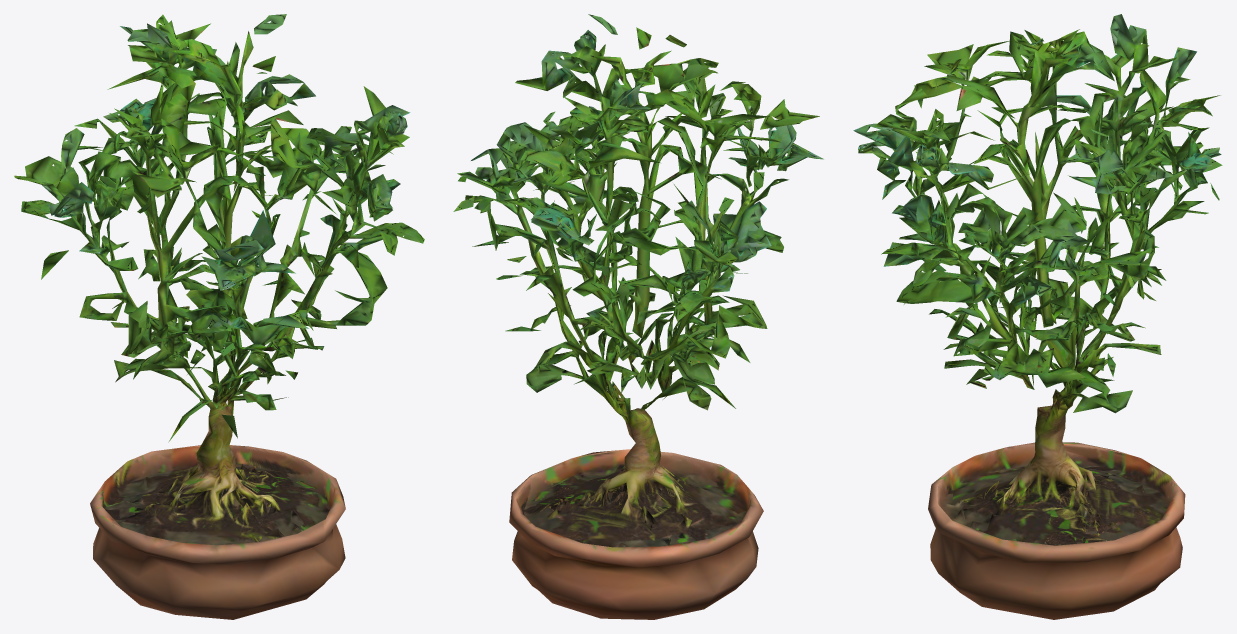
The model's file is ashwagandha.glb.
3 renders of one model, left to right at view 1: azimuth 30°, elevation 25°; view 2: azimuth 150°, elevation 25°; view 3: azimuth 270°, elevation 25°, orthographic. The views are drawn at different scales.
Bounding box in the file's own units: 1.22 × 1.98 × 1.19.
Materials: 1 (1 with a texture image).
